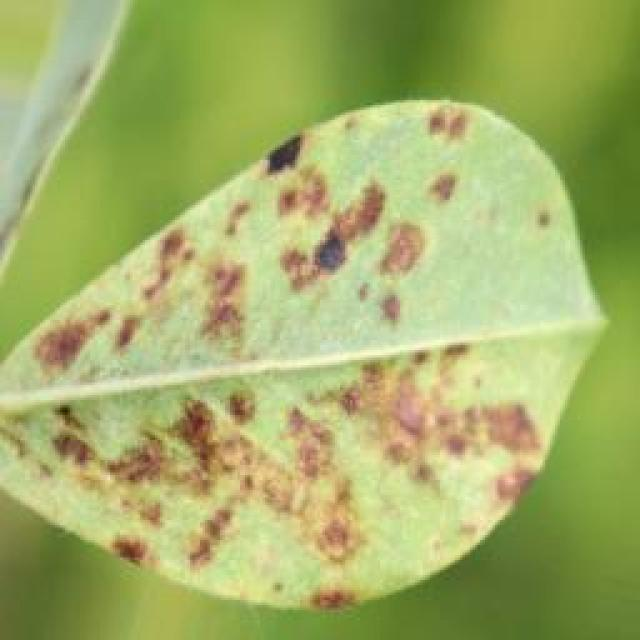Whitefly: (0, 80, 582, 640)
